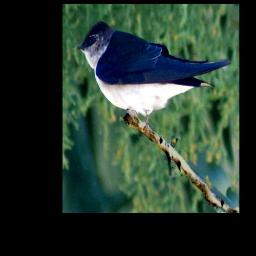Swallow: (74, 21, 231, 135)
